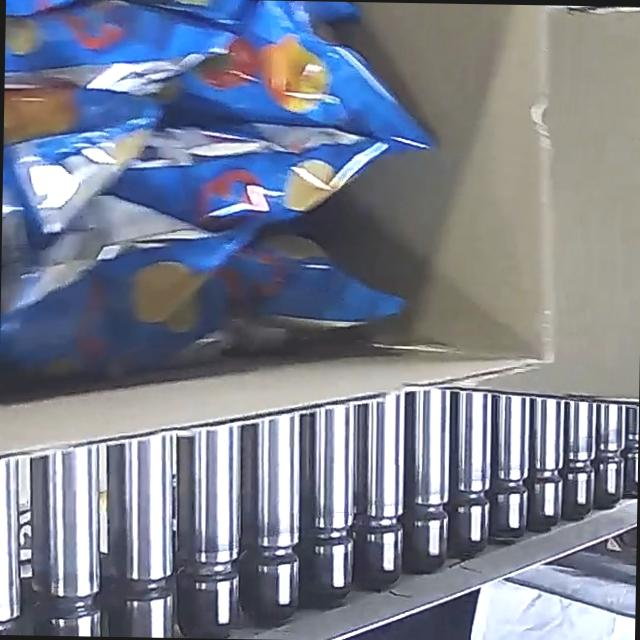paprika: (0, 0, 439, 387)
